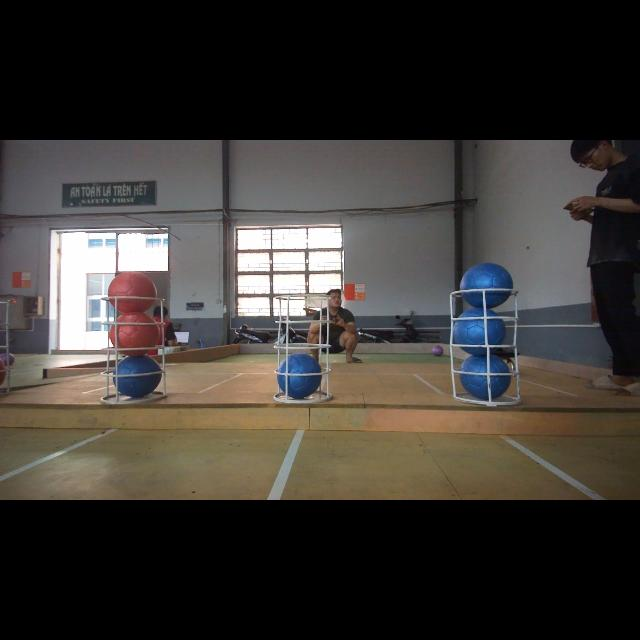B: (460, 262, 514, 308), (460, 354, 512, 400), (454, 308, 506, 354), (112, 357, 160, 399), (278, 354, 322, 398)
R: (109, 314, 161, 356), (108, 272, 156, 312)
